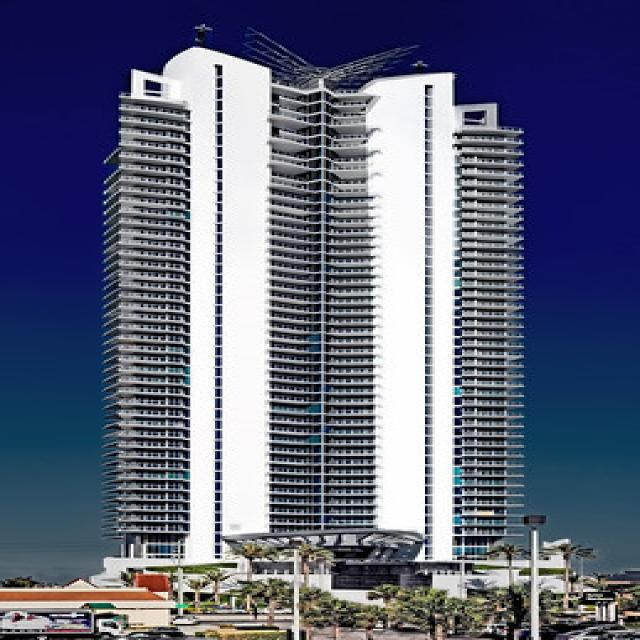building: (89, 16, 534, 581)
